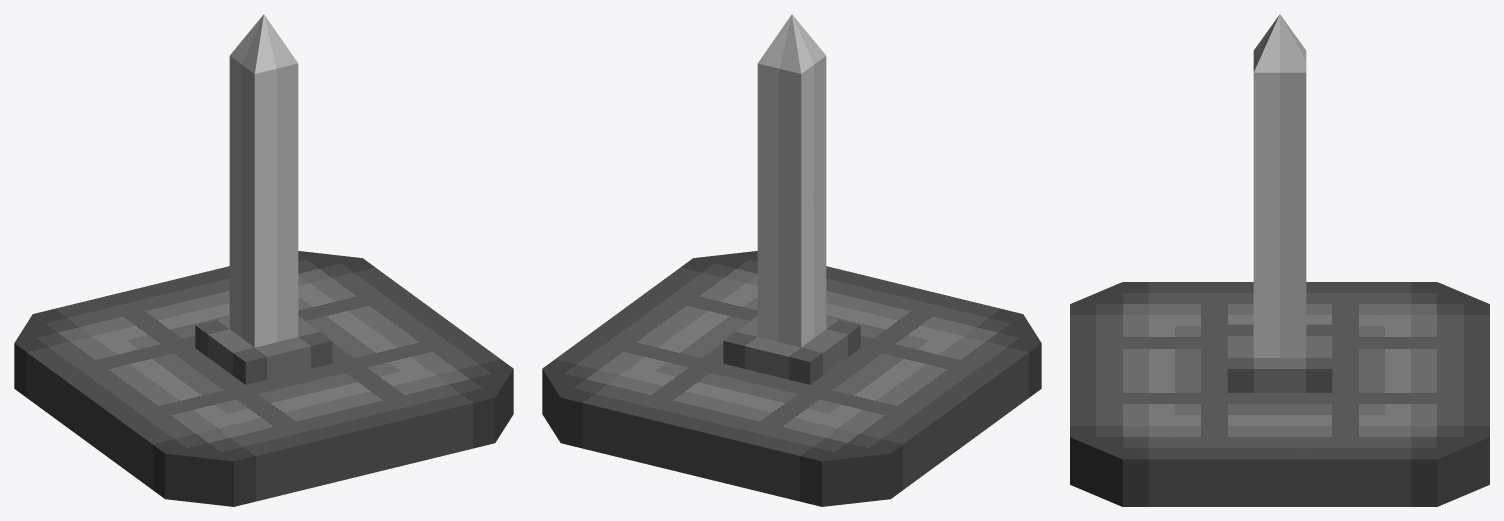
Rendered from solar_mirror_base.obj.
3 renders of one model, left to right at view 1: azimuth 30°, elevation 25°; view 2: azimuth 150°, elevation 25°; view 3: azimuth 270°, elevation 25°, orthographic. The views are drawn at different scales.
Visible parts, largest first — view 1: Base; view 2: Base; view 3: Base.
Boxes of the visible parts, x1,y1,x2,y2 form: Base: (14,14,513,506); Base: (542,14,1041,506); Base: (1070,14,1489,506).
Bounding box in the file's own units: 1 × 1.06 × 1.
